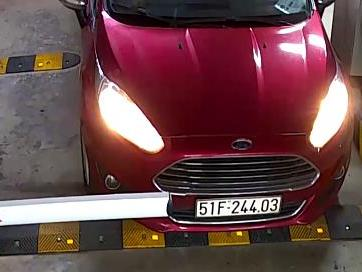number: (194, 196, 283, 216)
